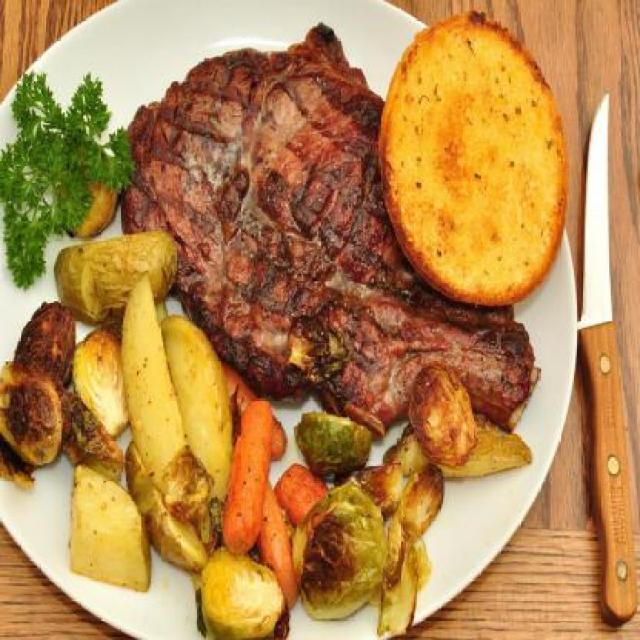Potato: (159, 312, 233, 543), (122, 274, 184, 488), (68, 462, 154, 592)
